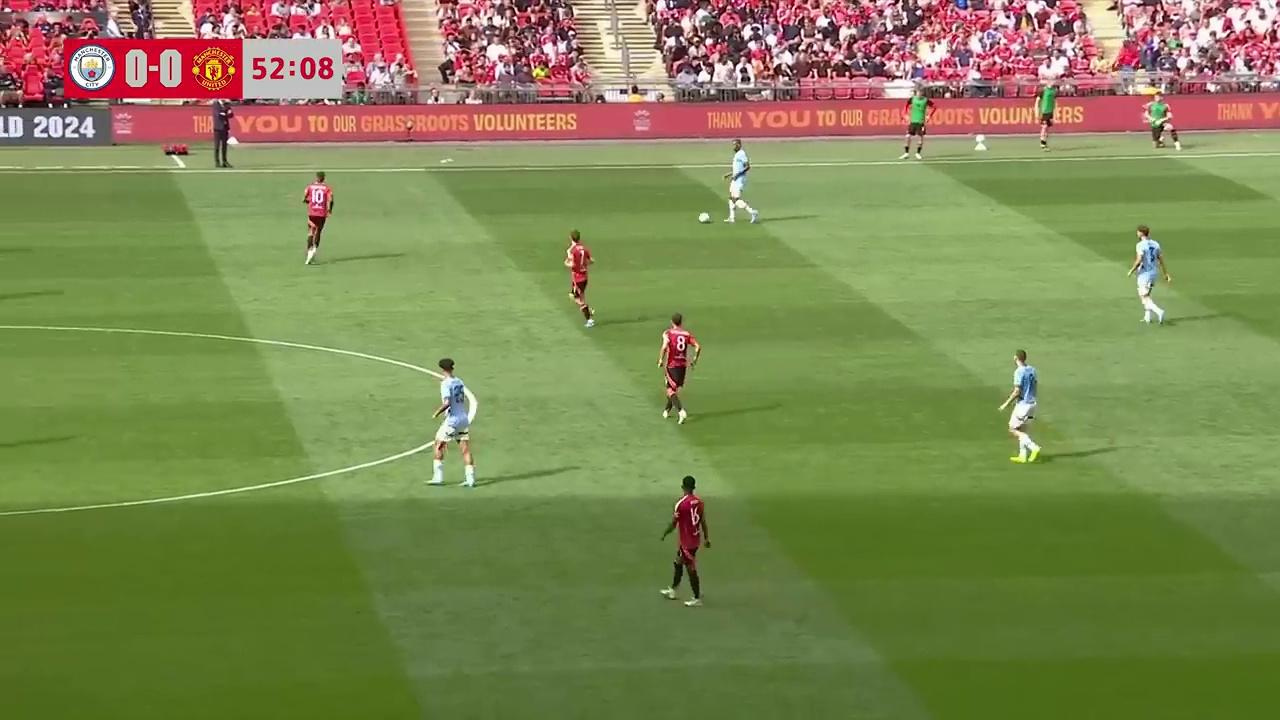ball: (696, 208, 712, 224)
player: (659, 474, 711, 606), (429, 358, 477, 488), (658, 312, 700, 425), (998, 349, 1040, 462), (1127, 230, 1166, 325), (722, 140, 758, 224), (302, 171, 333, 266), (564, 230, 594, 327)
